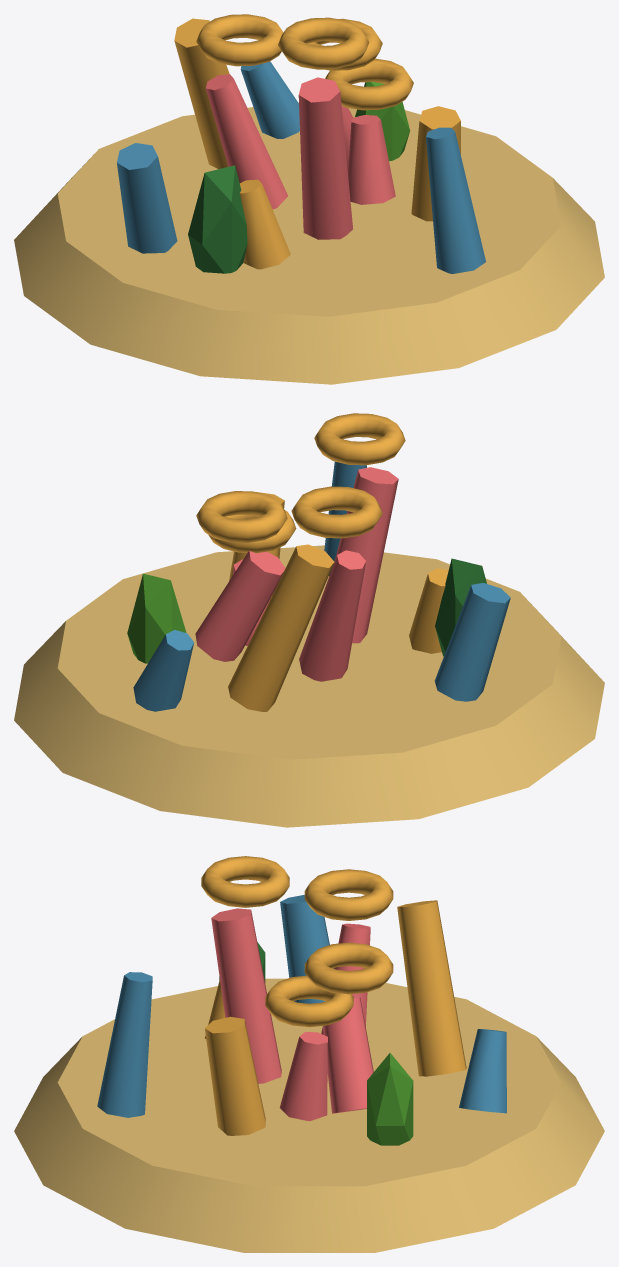
File: coral-reef.glb
3 renders of one model, top to bottom at view 1: azimuth 30°, elevation 25°; view 2: azimuth 150°, elevation 25°; view 3: azimuth 270°, elevation 25°, orthographic.
Parts seen in each view (by area): view 1: CoralReef_TropicalSand_0, CoralReef_CoralGold_2, CoralReef_CoralPink_1, CoralReef_CoralBlue_3, CoralReef_LeafDark_4, CoralReef_LeafBright_5; view 2: CoralReef_TropicalSand_0, CoralReef_CoralGold_2, CoralReef_CoralPink_1, CoralReef_CoralBlue_3, CoralReef_LeafBright_5, CoralReef_LeafDark_4; view 3: CoralReef_TropicalSand_0, CoralReef_CoralGold_2, CoralReef_CoralPink_1, CoralReef_CoralBlue_3, CoralReef_LeafBright_5.
Boxes of the visible parts, x1=… form: CoralReef_TropicalSand_0: x1=14, y1=102, x2=604, y2=384; CoralReef_CoralGold_2: x1=174, y1=14, x2=460, y2=269; CoralReef_CoralPink_1: x1=206, y1=74, x2=395, y2=239; CoralReef_CoralBlue_3: x1=117, y1=61, x2=485, y2=273; CoralReef_LeafDark_4: x1=188, y1=165, x2=247, y2=273; CoralReef_LeafBright_5: x1=355, y1=82, x2=410, y2=161; CoralReef_TropicalSand_0: x1=14, y1=545, x2=604, y2=827; CoralReef_CoralGold_2: x1=196, y1=413, x2=448, y2=711; CoralReef_CoralPink_1: x1=195, y1=467, x2=398, y2=681; CoralReef_CoralBlue_3: x1=133, y1=461, x2=510, y2=711; CoralReef_LeafBright_5: x1=127, y1=573, x2=186, y2=663; CoralReef_LeafDark_4: x1=435, y1=558, x2=486, y2=656; CoralReef_TropicalSand_0: x1=14, y1=978, x2=604, y2=1252; CoralReef_CoralGold_2: x1=201, y1=856, x2=466, y2=1135; CoralReef_CoralPink_1: x1=211, y1=908, x2=373, y2=1120; CoralReef_CoralBlue_3: x1=97, y1=895, x2=506, y2=1117; CoralReef_LeafBright_5: x1=367, y1=1053, x2=413, y2=1145.
Bounding box in the file's own units: 1.72 × 0.8203 × 1.76.
